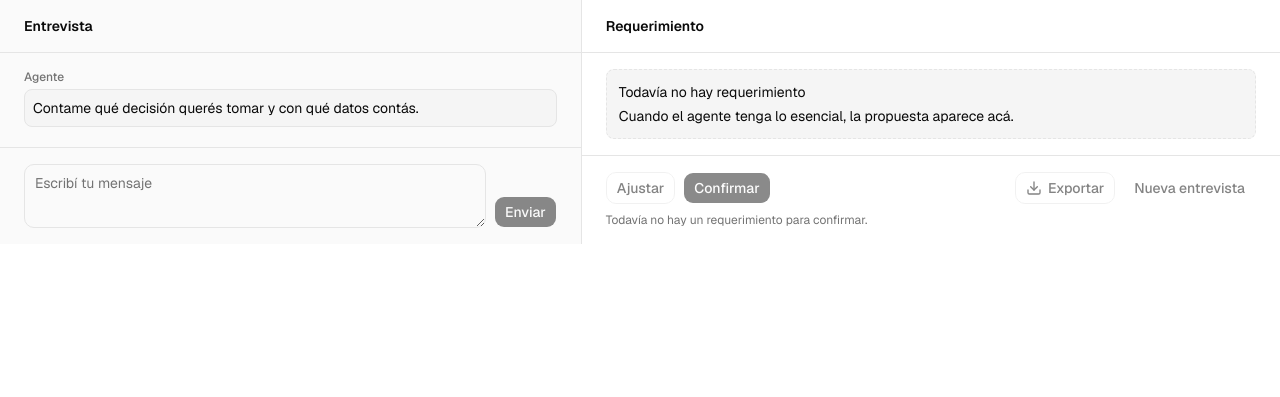
Composer › Enter envía y vacía el composer
Expected: the element named "Conversación" is shown, [0,53,581,147]
Type "Aumentaron los reclamos" into the text box at {"x": 255, "y": 196}, box [24,164,486,228]
Then press Enter
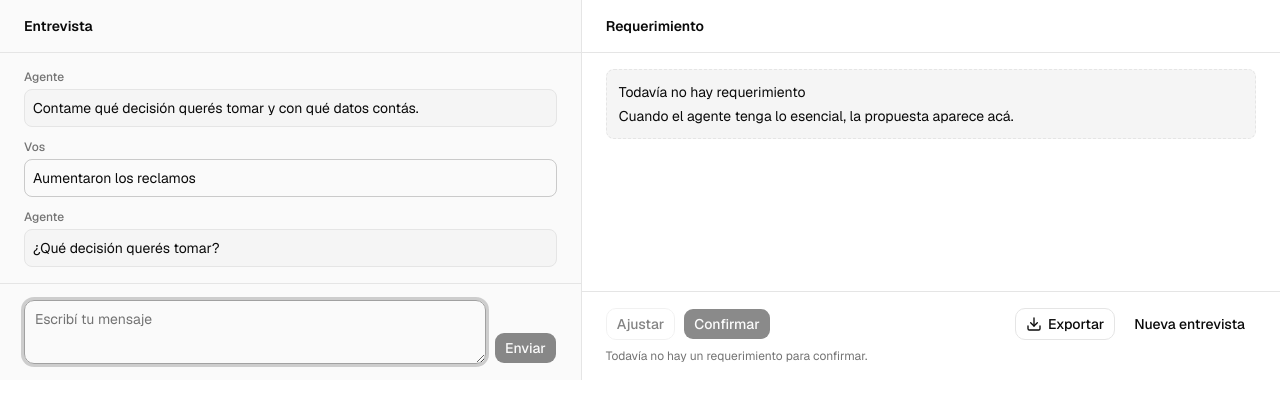
Expected: the text box is empty, [24,300,486,364]
Result: the text "¿Qué decisión querés tomar?" is shown at [33,239,220,257]
